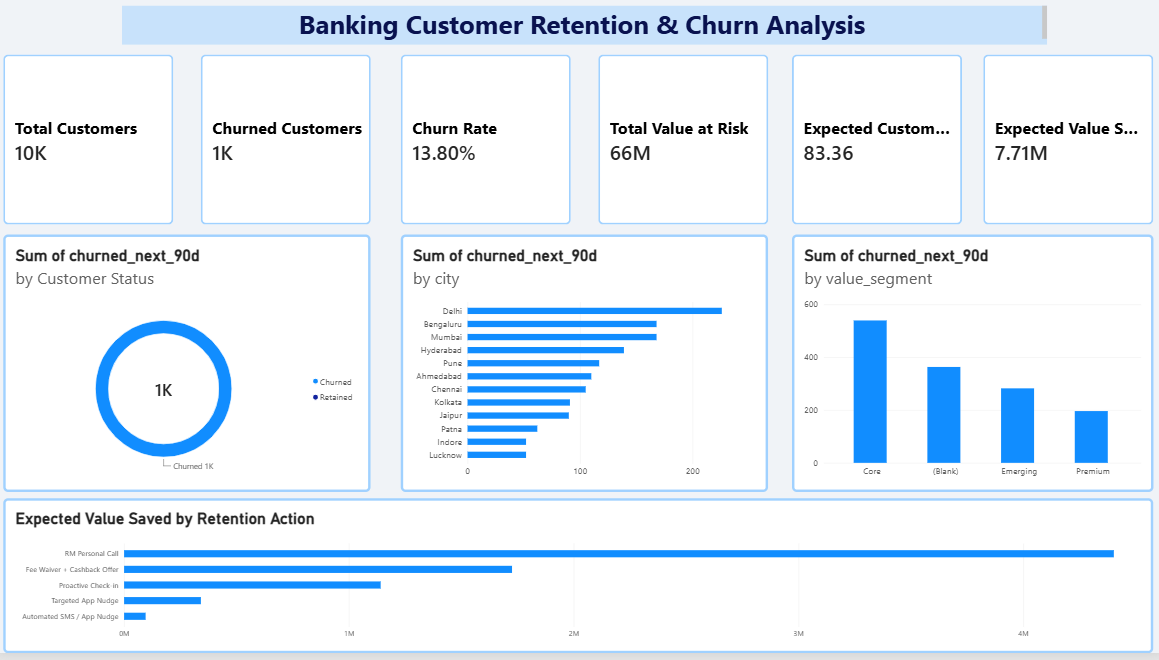

Layout of this report page (visuals, bound fields, positions):
{"tool":"powerbi","page":{"name":"Executive Overview","canvas":[1920,1080],"ordinal":0},"visuals":[{"type":"cardVisual","fields":{"Data":["Assumptions.Total Customers"]},"box":[10.3,94.7,280,280],"z":0},{"type":"cardVisual","fields":{"Data":["Data_All.Churned Customers"]},"box":[335.5,94.7,280,280],"z":1},{"type":"cardVisual","fields":{"Data":["Assumptions.Churn Rate"]},"box":[664.8,94.7,280,280],"z":2},{"type":"cardVisual","fields":{"Data":["Data_All.Total Value at Risk"]},"box":[990.1,94.7,280,280],"z":3},{"type":"cardVisual","fields":{"Data":["Data_All.Expected Customers Saved"]},"box":[1309.1,94.7,280,280],"z":4},{"type":"cardVisual","fields":{"Data":["Assumptions.Expected Value Saved"]},"box":[1624,94.7,280,280],"z":5},{"type":"donutChart","fields":{"Category":["Data_All.Customer Status"],"Y":["Sum(Data_All.churned_next_90d)"]},"box":[10.3,391.1,605.1,424],"z":6},{"type":"clusteredBarChart","fields":{"Category":["Data_All.city"],"Y":["Sum(Data_All.churned_next_90d)"]},"box":[664.8,391.1,605.1,424],"z":7},{"type":"clusteredColumnChart","fields":{"Category":["Targeting.value_segment"],"Y":["Sum(Data_All.churned_next_90d)"]},"box":[1309.1,391.1,594.9,424],"z":8},{"type":"clusteredBarChart","title":"Expected Value Saved by Retention Action","fields":{"Category":["Data_All.recommended_action"],"Y":["Assumptions.Expected Value Saved"]},"box":[10.3,825.4,1893.7,255.2],"z":9},{"type":"textbox","box":[205.8,14.4,1523.2,63.8],"z":10}]}

Visuals, with their boxes in screenshot pixels (x1, y1, x2, y2), scaled from the page's 1920x1080 canvas onto the 1159x660 screenshot:
cardVisual - Assumptions.Total Customers: rect(6, 58, 175, 229)
cardVisual - Data_All.Churned Customers: rect(203, 58, 372, 229)
cardVisual - Assumptions.Churn Rate: rect(401, 58, 570, 229)
cardVisual - Data_All.Total Value at Risk: rect(598, 58, 767, 229)
cardVisual - Data_All.Expected Customers Saved: rect(790, 58, 959, 229)
cardVisual - Assumptions.Expected Value Saved: rect(980, 58, 1149, 229)
donutChart - Data_All.Customer Status x Sum(Data_All.churned_next_90d): rect(6, 239, 371, 498)
clusteredBarChart - Data_All.city x Sum(Data_All.churned_next_90d): rect(401, 239, 767, 498)
clusteredColumnChart - Targeting.value_segment x Sum(Data_All.churned_next_90d): rect(790, 239, 1149, 498)
"Expected Value Saved by Retention Action" clusteredBarChart: rect(6, 504, 1149, 659)
textbox: rect(124, 9, 1044, 48)
